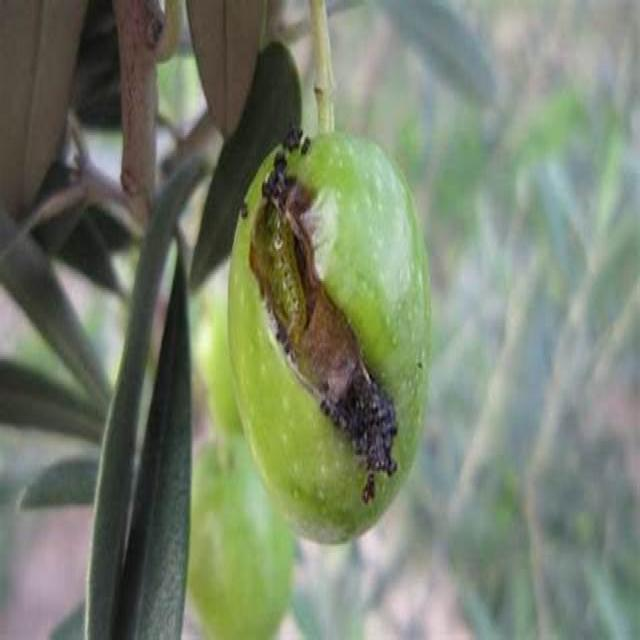Anthracnose: (228, 133, 430, 542)
